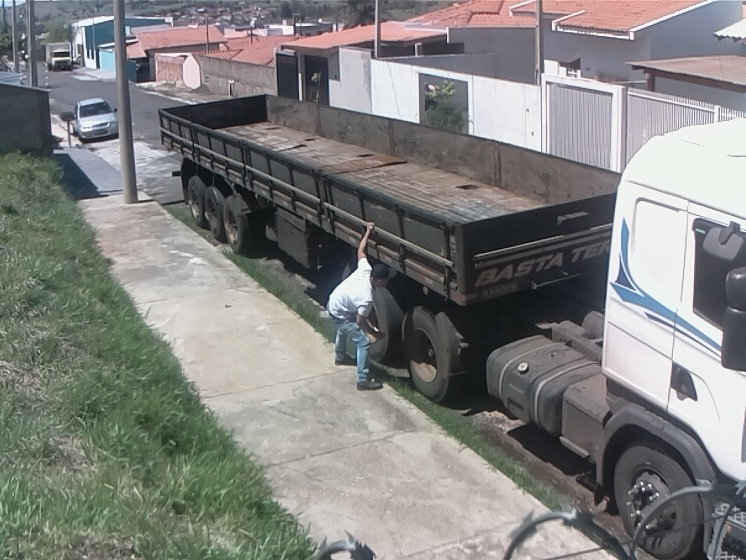person: (326, 219, 389, 393)
